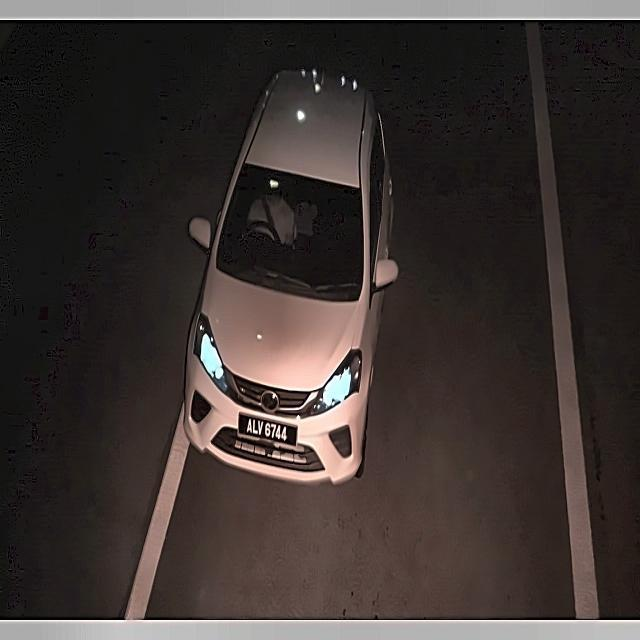car: (236, 409, 302, 456)
